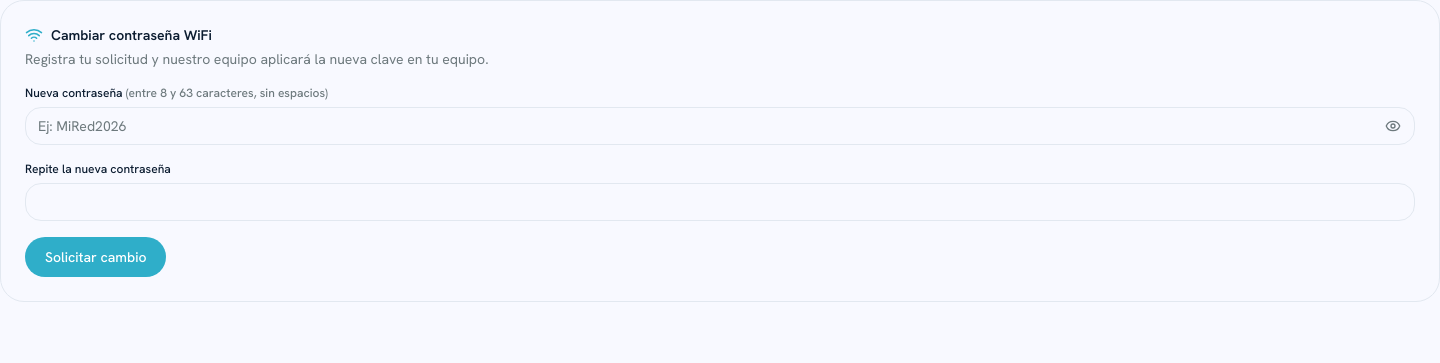
it: WifiPasswordSection (CU-31 / CU-32) › rechaza la clave con espacios en blanco
Type "Mi Red 2026" into the password field labelled "Nueva contraseña (entre 8 y 63 caracteres, sin espacios)" at (720, 126), box [25,107,1415,145]
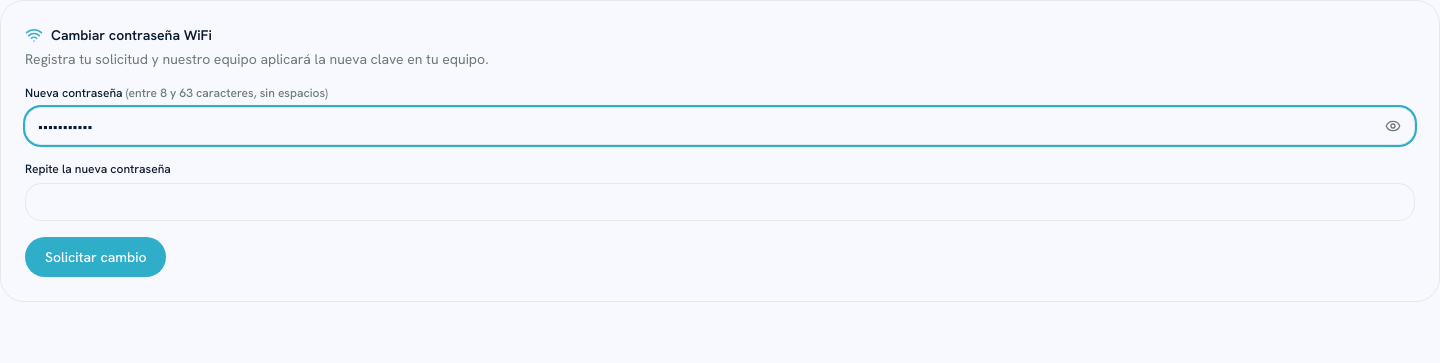
Click the button "Solicitar cambio" at (96, 257), box [25,237,166,277]
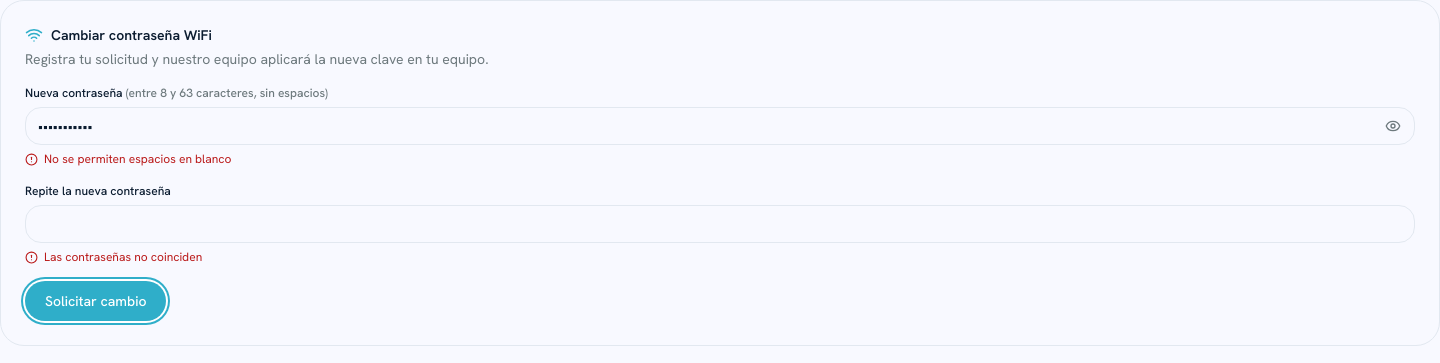
Now the text "No se permiten espacios en blanco" is shown, box [25,151,232,167]
